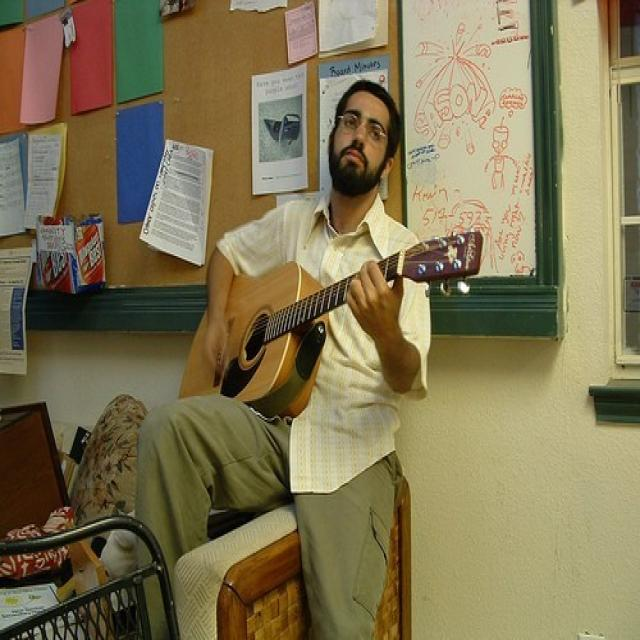guitar: (180, 231, 483, 422)
